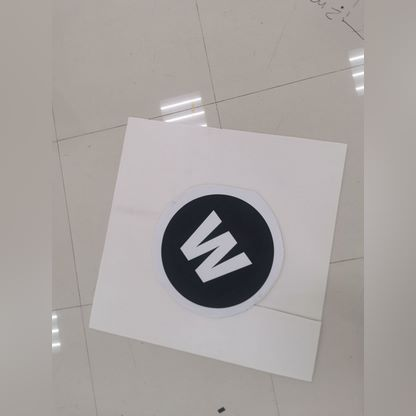W: (174, 200, 251, 291)
